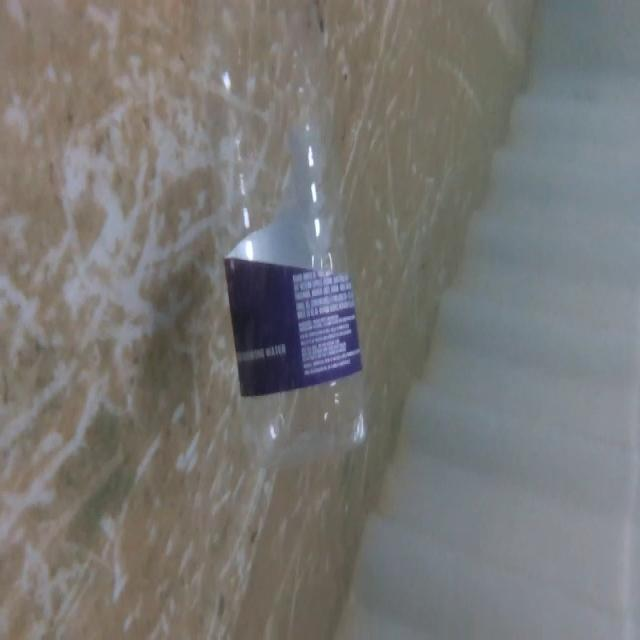plastic bottle: (174, 0, 392, 503)
